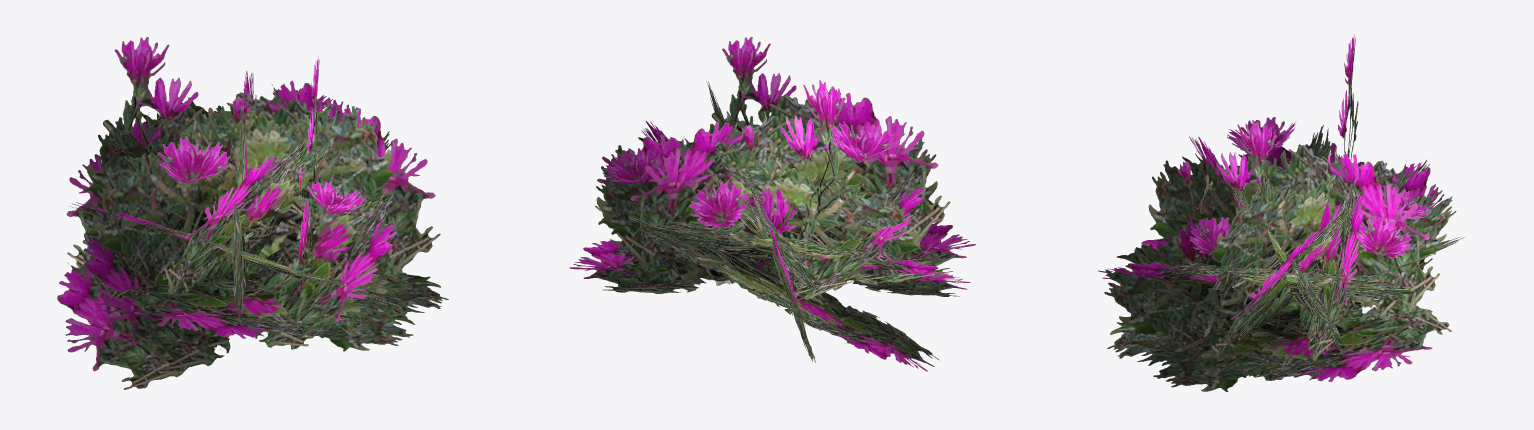
File: flow_iceplantflowers_l0.fbx
3 views of the same model, side by side, from view 1: azimuth 30°, elevation 25°; view 2: azimuth 150°, elevation 25°; view 3: azimuth 270°, elevation 25° (orthographic). The views are drawn at different scales.
Parts seen in each view (by area): view 1: mesh_node; view 2: mesh_node; view 3: mesh_node.
Boxes of the visible parts, x1,y1,x2,y2 form: mesh_node: (57, 37, 448, 389); mesh_node: (569, 37, 975, 371); mesh_node: (1098, 34, 1464, 391).
Size of the model in its own units: 1.28 by 0.9642 by 1.3.
Materials: 1 (1 with a texture image).
